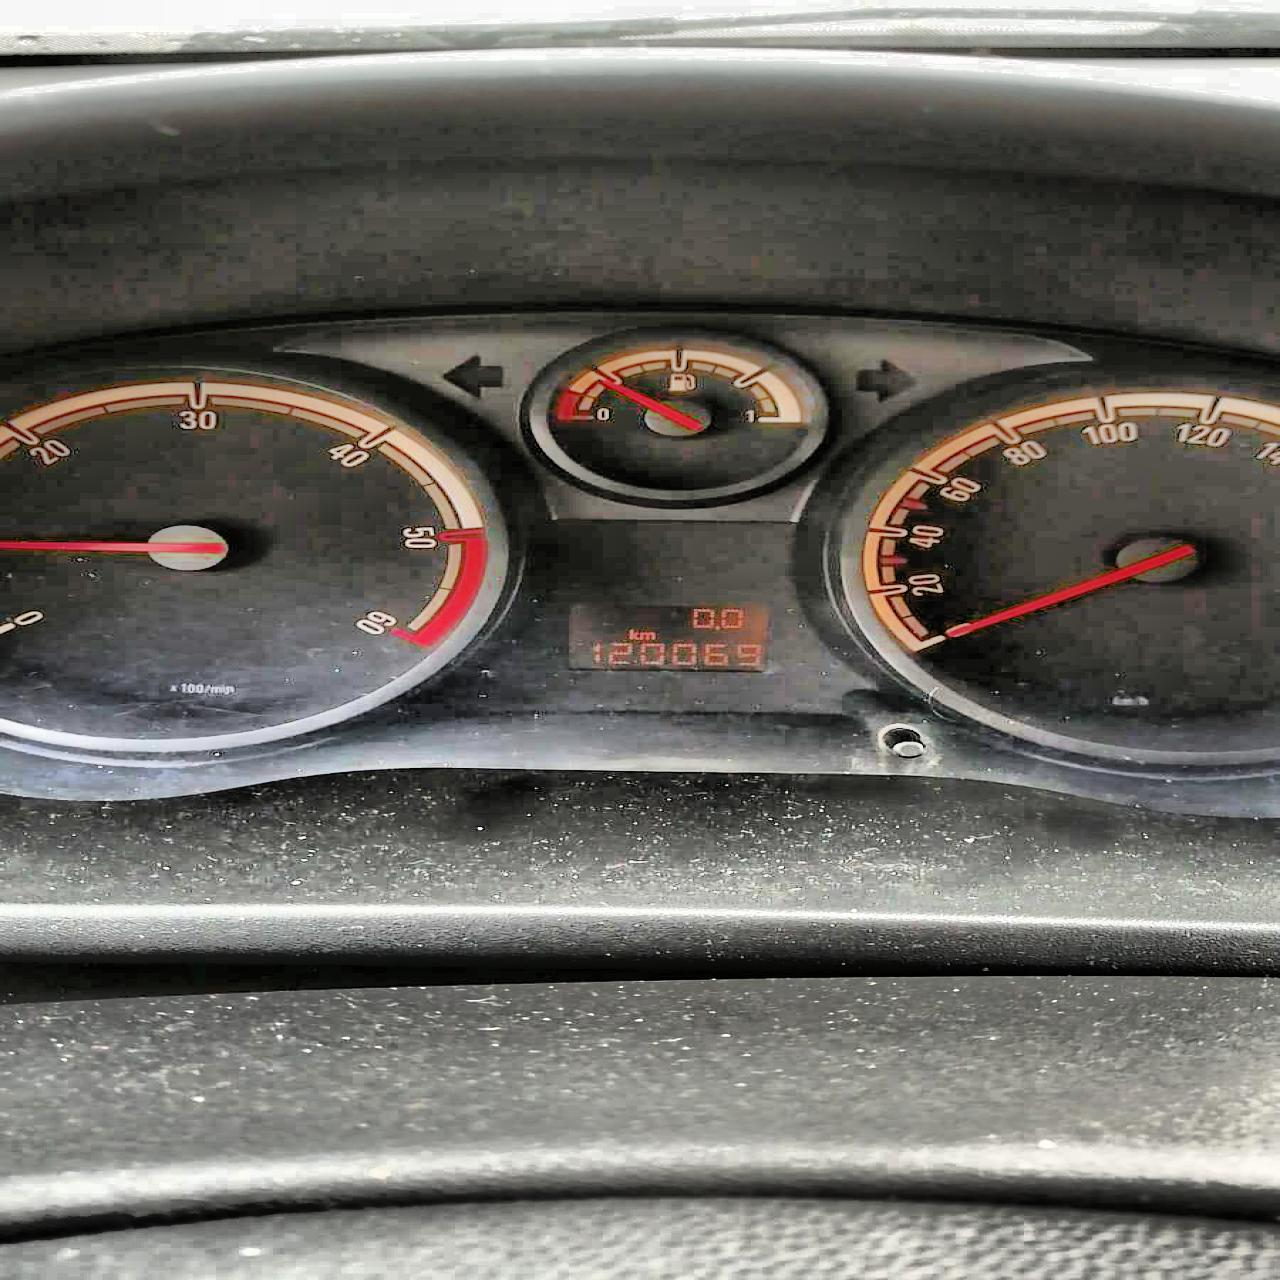-: (714, 625, 720, 629)
0: (669, 642, 695, 665), (639, 642, 665, 665), (719, 608, 742, 628), (692, 608, 714, 628)
1: (592, 642, 601, 662)
2: (607, 642, 632, 663)
6: (702, 644, 727, 665)
9: (735, 644, 761, 665)
X: (636, 631, 654, 639), (627, 628, 639, 639)
odometer: (560, 599, 776, 675)
